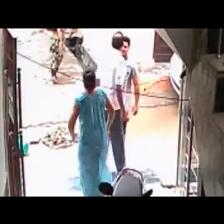person: (68, 69, 114, 196), (121, 37, 139, 137), (47, 29, 64, 83)
